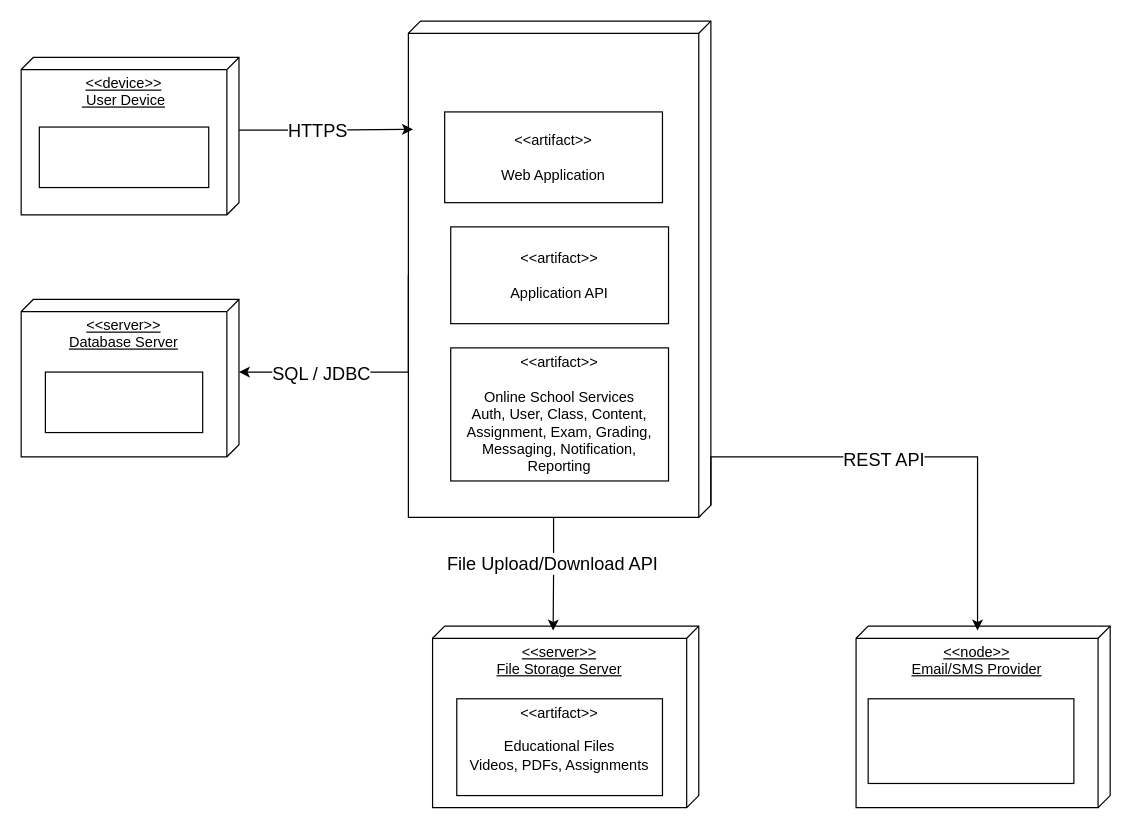
Some shapes in this 1131 by 829 pixel diagram are drawn without their labels. Each missing label, with the box of its shape:
<<artifact>> Browser / Mobile App: (38, 126, 209, 188)
<<artifact>> Email/SMS Gateway: (867, 698, 1074, 783)
<<artifact>> School-db: (44, 371, 203, 433)
<<server>> Application Server: (407, 20, 711, 517)
